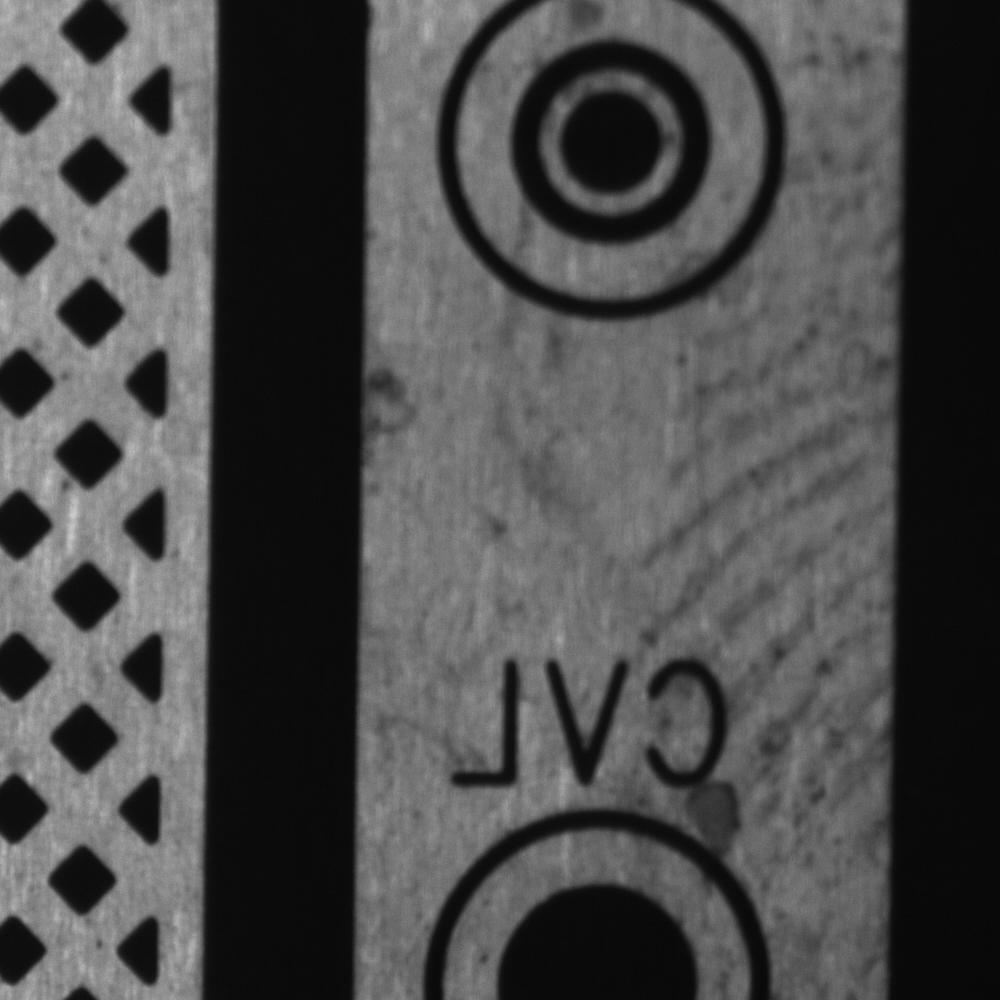Discolor: (688, 659, 891, 853), (686, 309, 890, 488), (634, 513, 892, 644), (789, 13, 903, 237), (363, 339, 435, 479)
